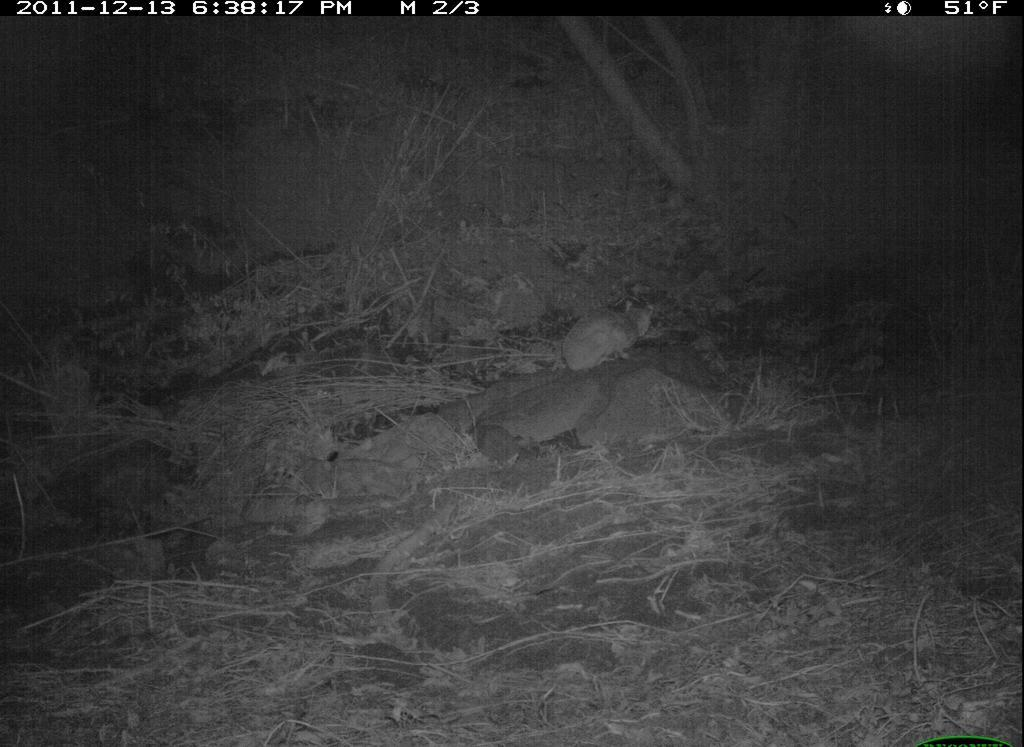bobcat: (541, 289, 676, 382)
